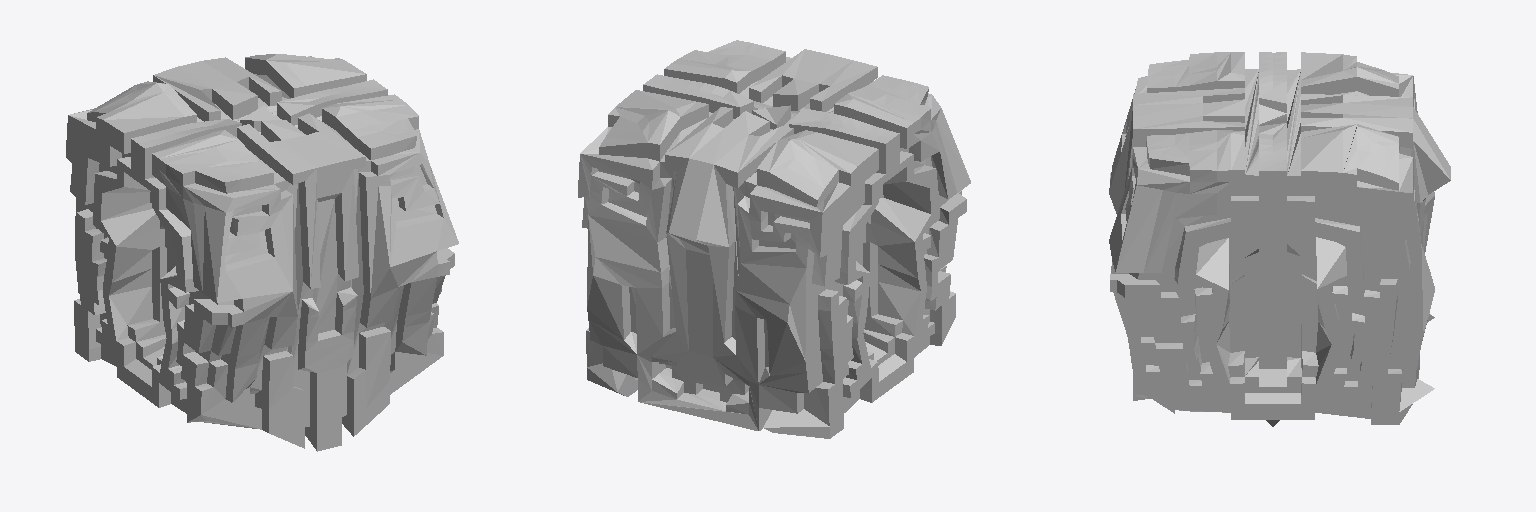
File: Bot_ParentElement_LOD0-1.obj
The picture shows the model from 3 angles: view 1: azimuth 30°, elevation 25°; view 2: azimuth 150°, elevation 25°; view 3: azimuth 270°, elevation 25°; orthographic projection.
Parts seen in each view (by area): view 1: Bot_ParentElement_LOD0-1; view 2: Bot_ParentElement_LOD0-1; view 3: Bot_ParentElement_LOD0-1.
Part boxes in pixels (x1,y1,x2,y2): Bot_ParentElement_LOD0-1: (66, 54, 458, 451); Bot_ParentElement_LOD0-1: (578, 40, 970, 438); Bot_ParentElement_LOD0-1: (1109, 52, 1450, 426).
Bounding box in the file's own units: 2 × 2.51 × 2.44.